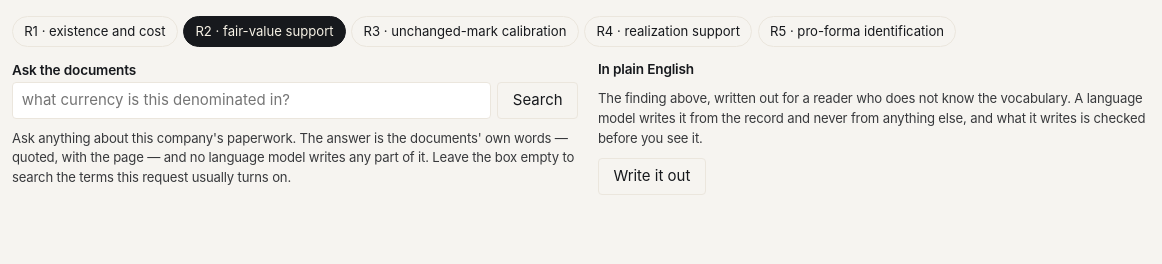
asking the documents › tells the reader when the question searched was not theirs
Click the button "Search".
click(538, 100)  # box [497,82,578,119]
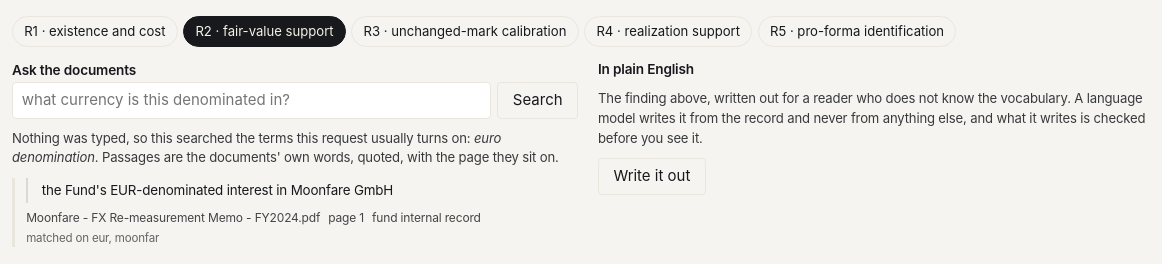
expect the text "Nothing was typed" is shown: met, box [12,130,470,146]
